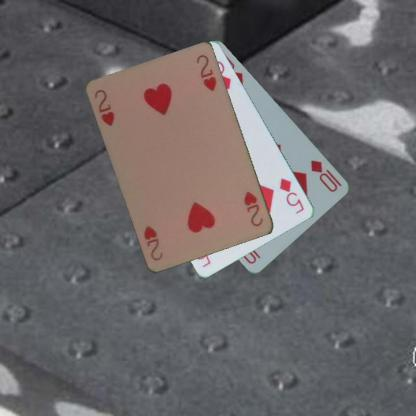10d: (308, 157, 343, 194)
2h: (92, 86, 116, 127), (242, 189, 264, 229)
5d: (276, 176, 306, 216)
